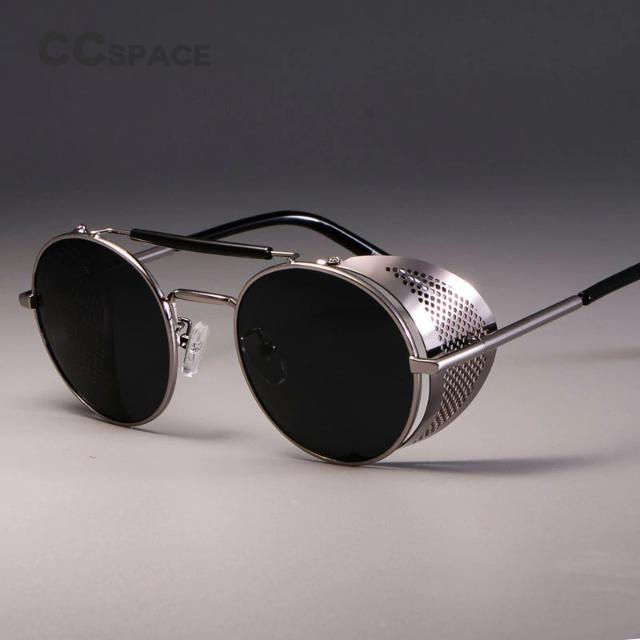Sunglasses: (14, 196, 640, 474)
